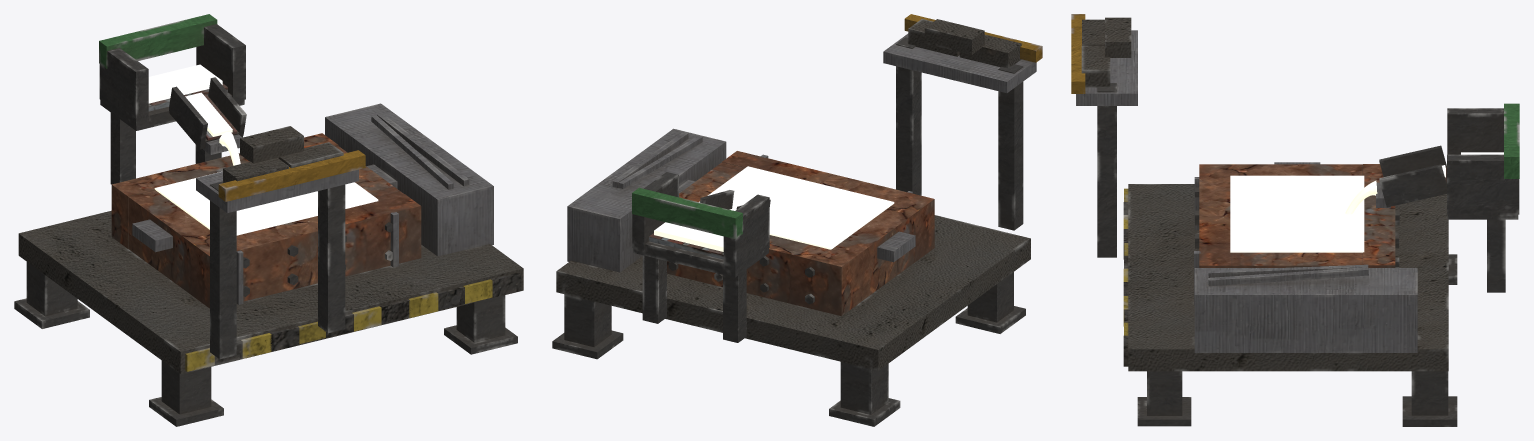
File: feCaster_HD.fbx
3 views of the same model, side by side, from view 1: azimuth 30°, elevation 25°; view 2: azimuth 150°, elevation 25°; view 3: azimuth 270°, elevation 25° (orthographic). The views are drawn at different scales.
Visible parts, largest first — view 1: feCaster_Base, FeCastMetal, FeCastReady; view 2: feCaster_Base, FeCastMetal, FeCastReady; view 3: feCaster_Base, FeCastMetal, FeCastReady.
Part boxes in pixels (<box>): feCaster_Base: <box>14,14,523,426</box>; FeCastMetal: <box>154,171,378,235</box>; FeCastReady: <box>223,126,343,182</box>; feCaster_Base: <box>552,14,1042,426</box>; FeCastMetal: <box>699,166,894,249</box>; FeCastReady: <box>908,19,1021,68</box>; feCaster_Base: <box>1071,14,1519,426</box>; FeCastMetal: <box>1230,175,1364,252</box>; FeCastReady: <box>1081,17,1131,87</box>.
Size of the model in its own units: 0.8948 by 0.6819 by 1.01.
Materials: 3 (1 with a texture image).
